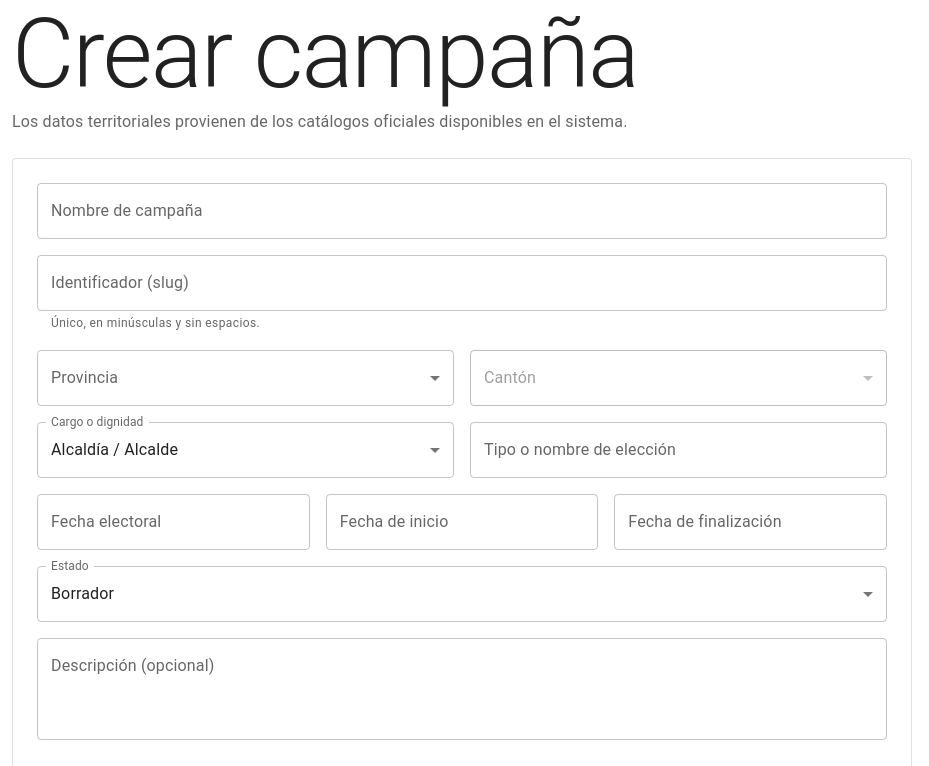
Test case: módulo de campañas › carga cantones por provincia y limpia el cantón al cambiarla
Click the dropdown named "Provincia" next to "Provincia".
click(246, 378)  # box [37,350,454,406]
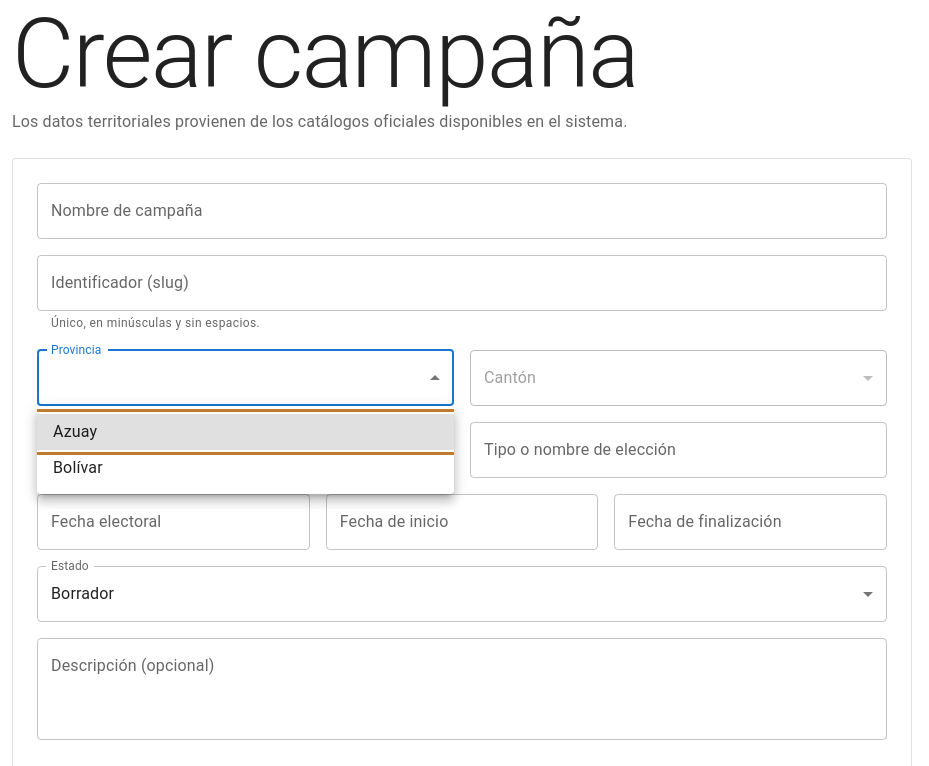
Click the option "Azuay".
click(75, 432)  # box [37,414,454,450]
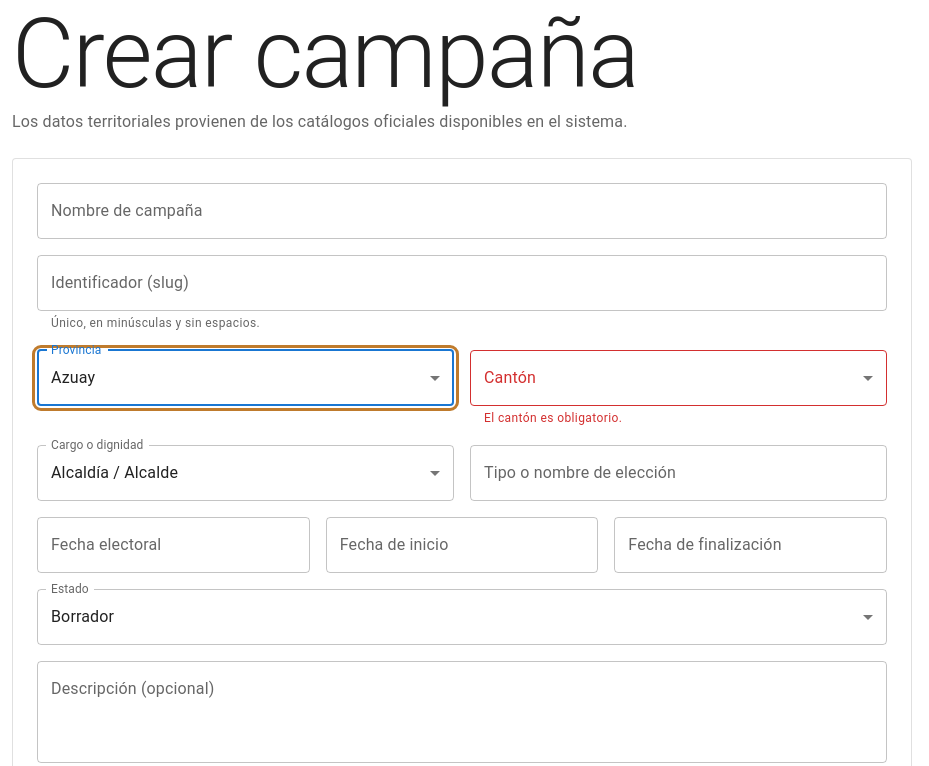
Click the dropdown named "Cantón".
click(678, 378)  # box [470,350,887,406]
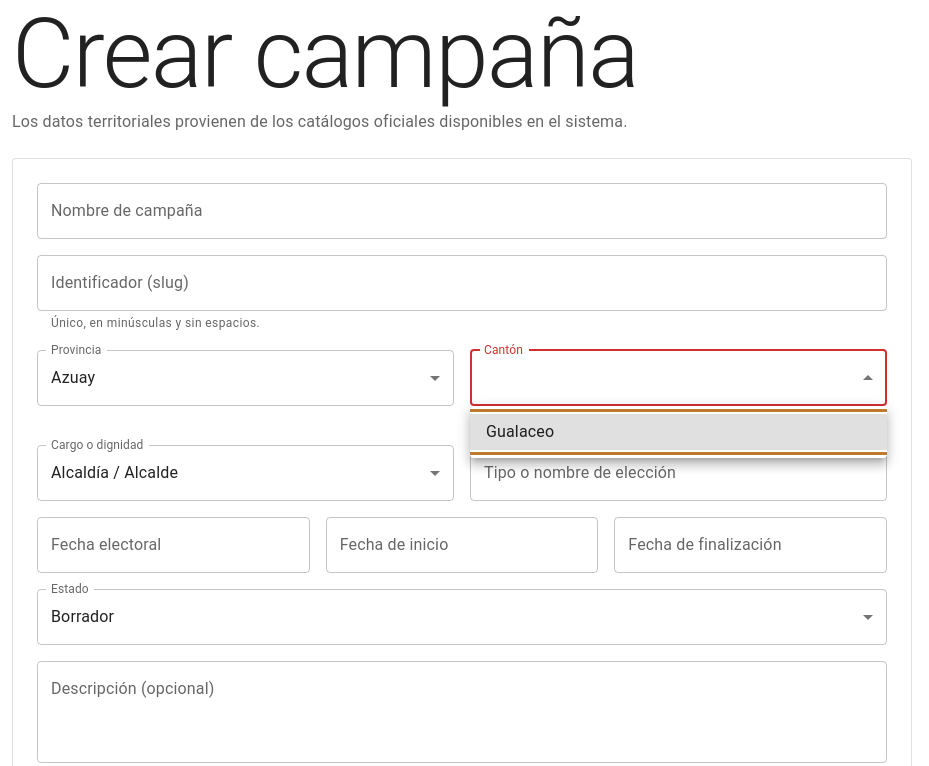
Click the option "Gualaceo".
click(520, 432)  # box [470,414,887,450]
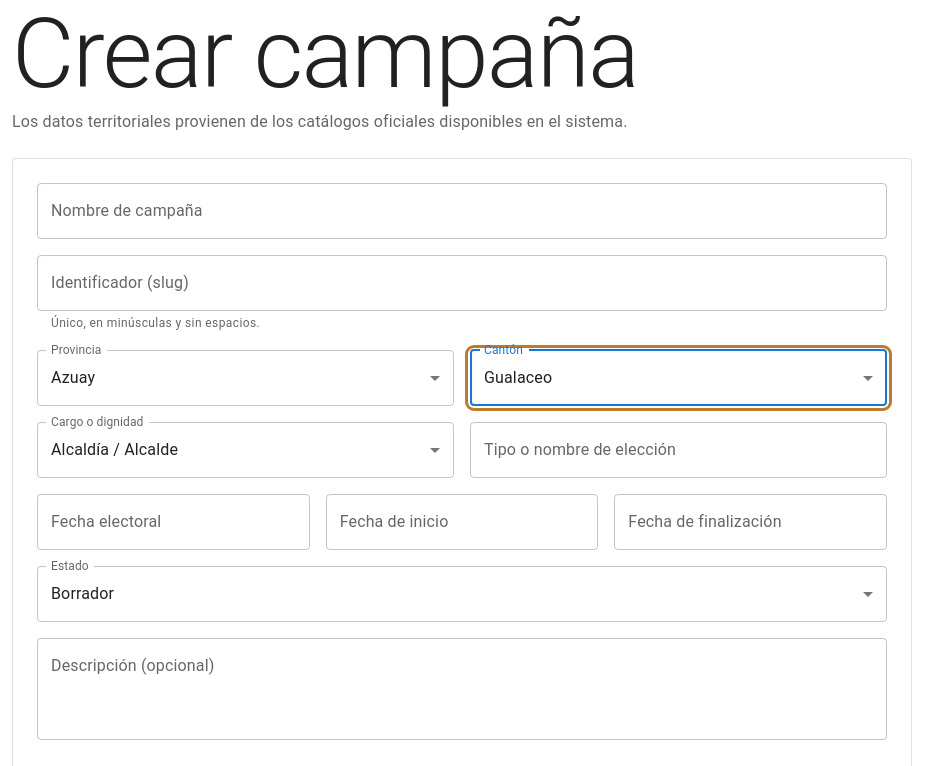
Check: the dropdown named "Cantón" reads "Gualaceo", box [484,368,552,387]
Click the dropdown named "Provincia".
click(73, 378)  # box [51,368,95,387]
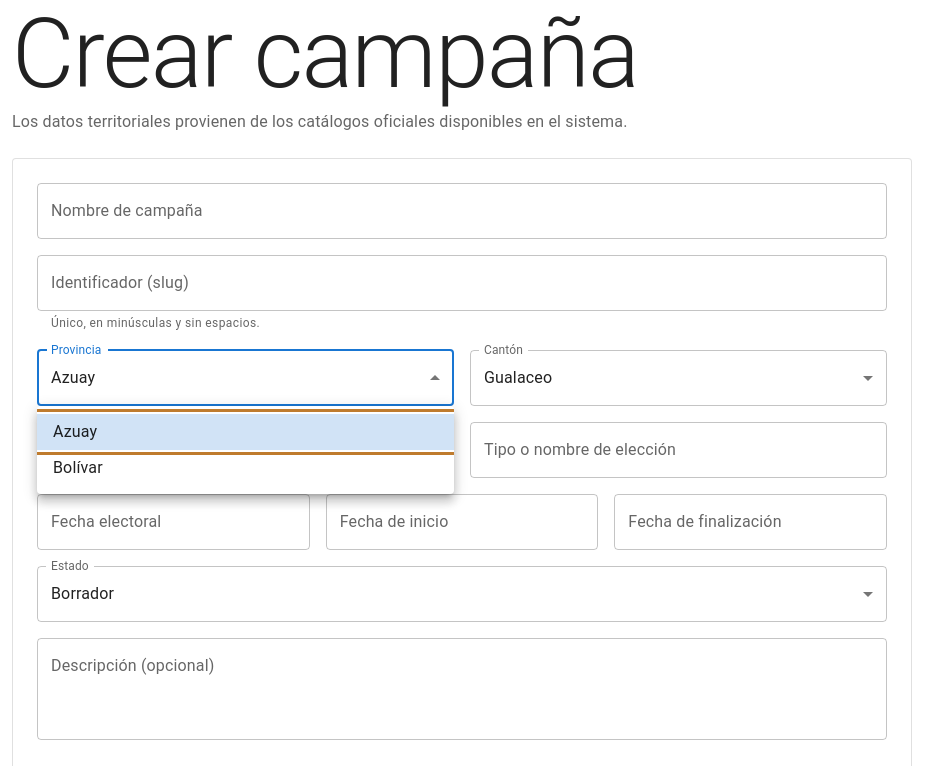
Click the option "Bolívar".
click(78, 468)  # box [53,458,103,477]
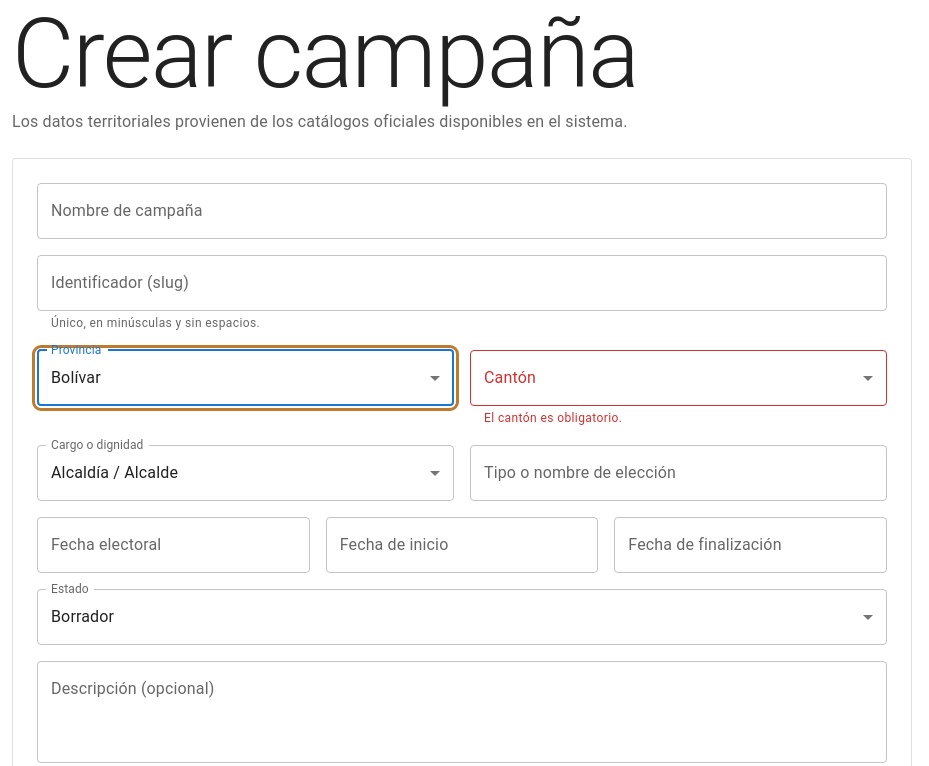
Check: the dropdown named "Cantón" no longer shows "Gualaceo", box [470,350,887,406]
